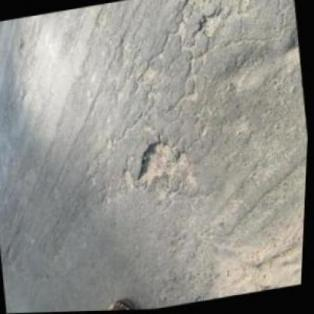Hueco: (132, 137, 190, 192), (196, 10, 224, 40)
